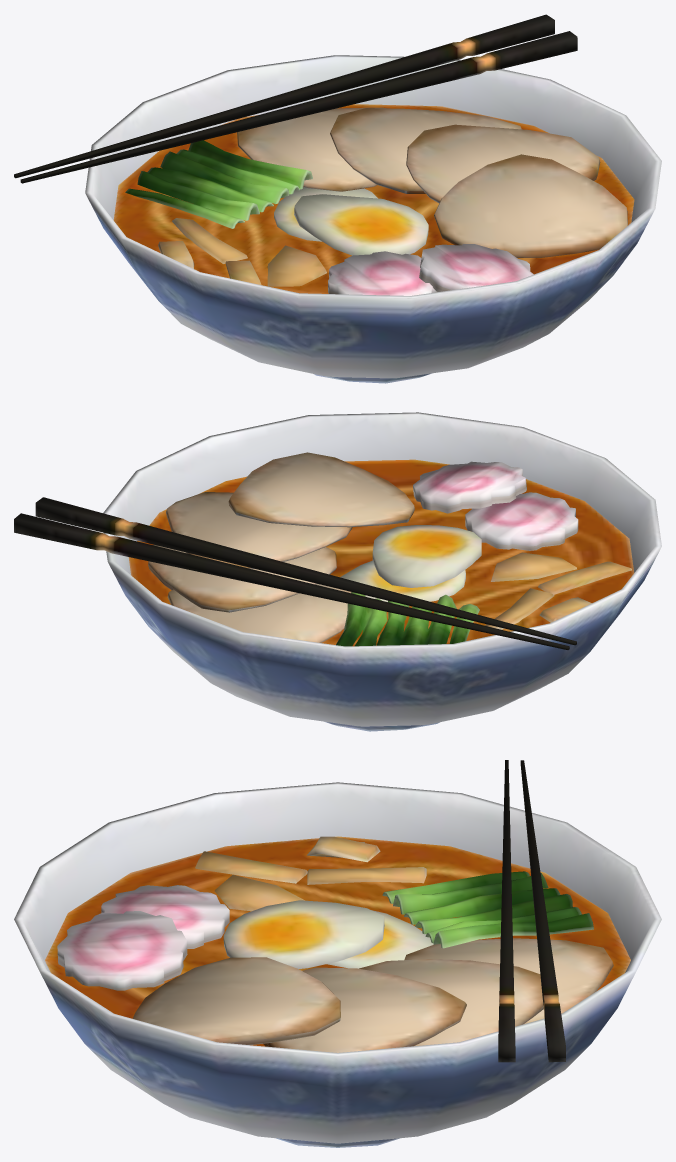
Rendered from ramen.glb.
3 views of the same model, one above another, from view 1: azimuth 30°, elevation 25°; view 2: azimuth 150°, elevation 25°; view 3: azimuth 270°, elevation 25° (orthographic). The views are drawn at different scales.
Parts seen in each view (by area): view 1: Assembla_Ramen_0; view 2: Assembla_Ramen_0; view 3: Assembla_Ramen_0.
Boxes of the visible parts, box(x1,y1,x2,y2) form: Assembla_Ramen_0: box(14, 14, 661, 383); Assembla_Ramen_0: box(14, 412, 661, 731); Assembla_Ramen_0: box(14, 760, 661, 1147).
Bounding box in the file's own units: 1 × 0.3273 × 0.9148.
Materials: 1 (1 with a texture image).
